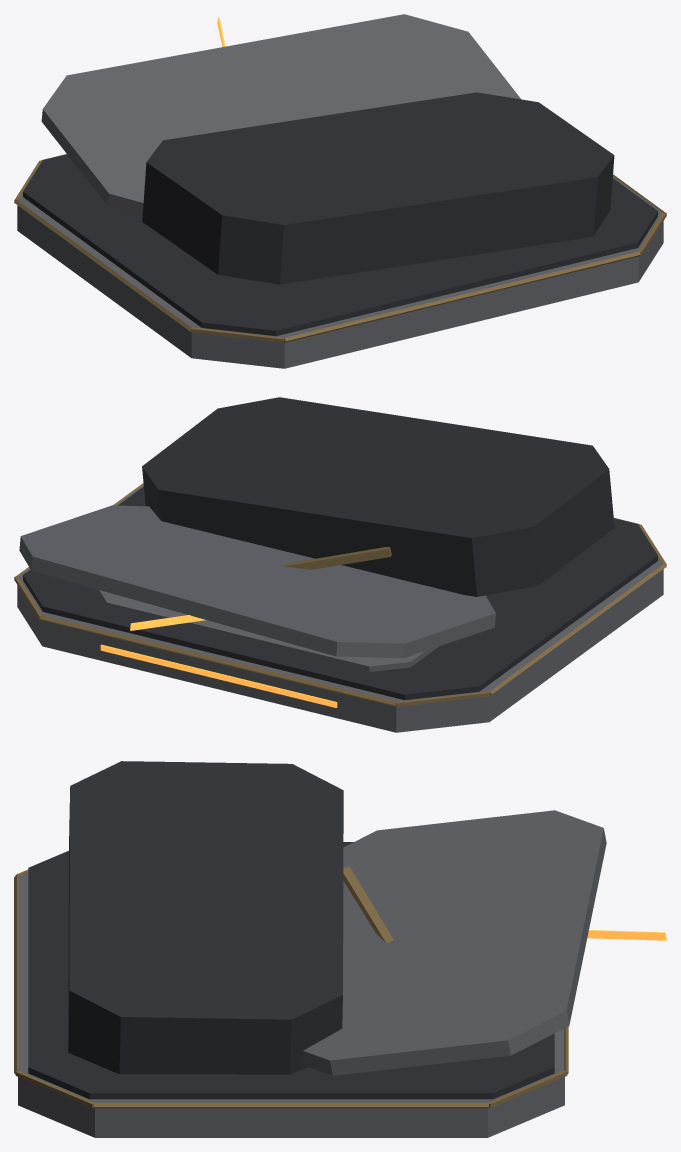
The model's file is Wreck_Aegis_MotorPool.fbx.
3 views of the same model, one above another, from view 1: azimuth 30°, elevation 25°; view 2: azimuth 150°, elevation 25°; view 3: azimuth 270°, elevation 25° (orthographic). The views are drawn at different scales.
Visible parts, largest first — view 1: Wreck_Aegis_MotorPool; view 2: Wreck_Aegis_MotorPool; view 3: Wreck_Aegis_MotorPool.
Part boxes in pixels (<box>): Wreck_Aegis_MotorPool: <box>14,14,666,368</box>; Wreck_Aegis_MotorPool: <box>14,397,666,732</box>; Wreck_Aegis_MotorPool: <box>14,761,666,1137</box>.
Size of the model in its own units: 3.65 by 0.9041 by 3.82.
